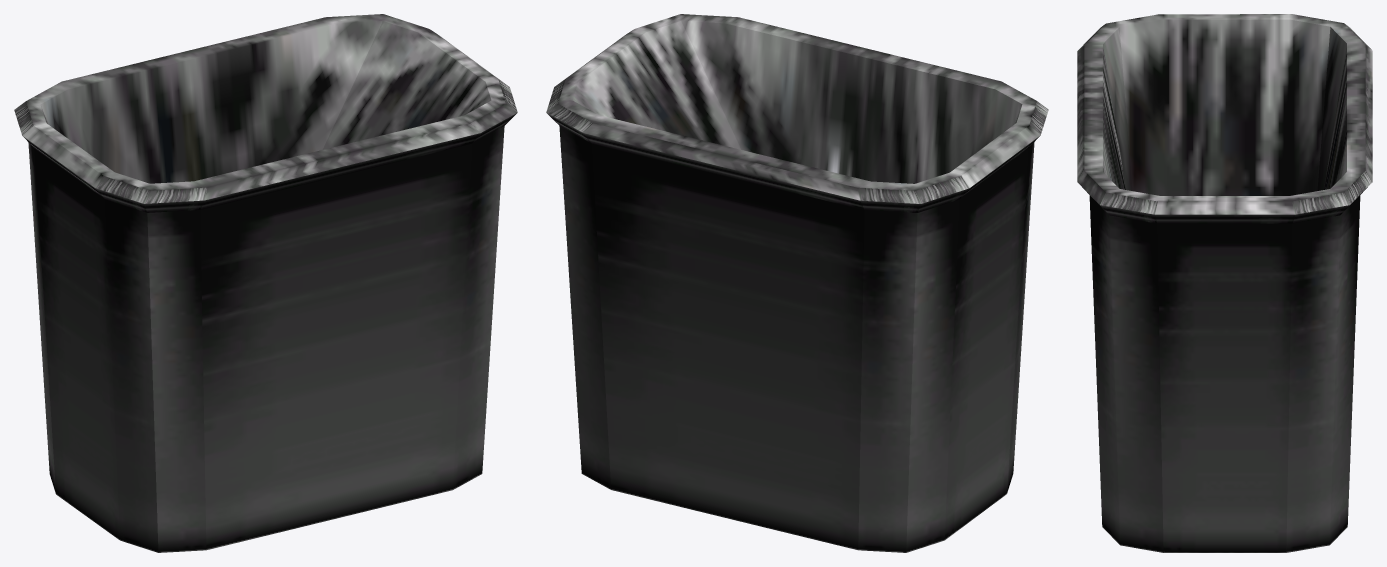
Rendered from garbage_can_rubber.fbx.
3 renders of one model, left to right at view 1: azimuth 30°, elevation 25°; view 2: azimuth 150°, elevation 25°; view 3: azimuth 270°, elevation 25°, orthographic. The views are drawn at different scales.
Parts seen in each view (by area): view 1: mesh_1; view 2: mesh_1; view 3: mesh_1.
Boxes of the visible parts, x1,y1,x2,y2 form: mesh_1: (14,14,517,552); mesh_1: (546,14,1048,552); mesh_1: (1077,14,1372,552).
Size of the model in its own units: 49.37 by 42.19 by 31.31.
